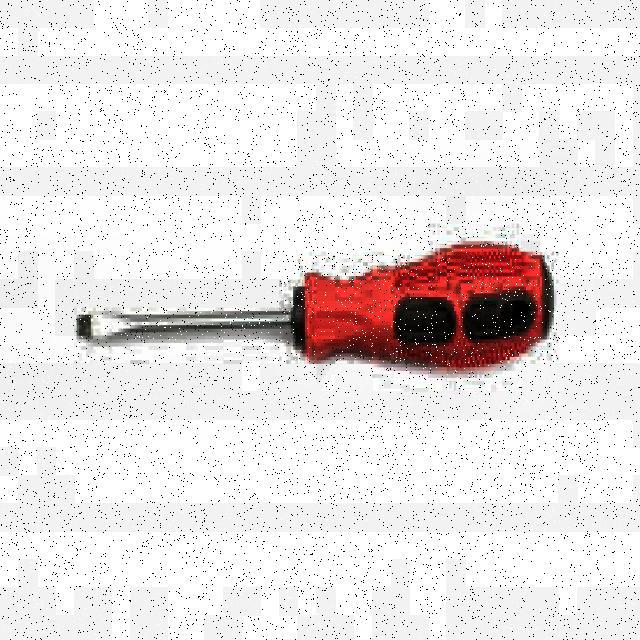screwdriver: (77, 242, 553, 370)
